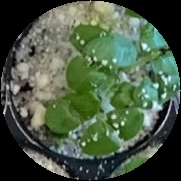Basil: (80, 107, 140, 155), (66, 38, 116, 91), (75, 25, 135, 64), (47, 91, 101, 132), (147, 24, 178, 78)
